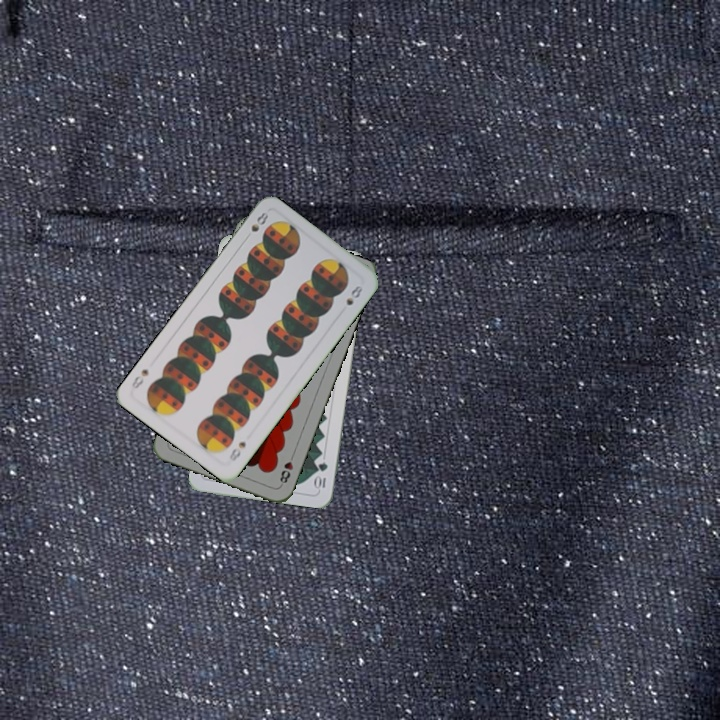G10: (312, 458, 330, 492)
H8: (276, 449, 297, 488)
S8: (242, 208, 271, 244), (225, 437, 249, 464)
